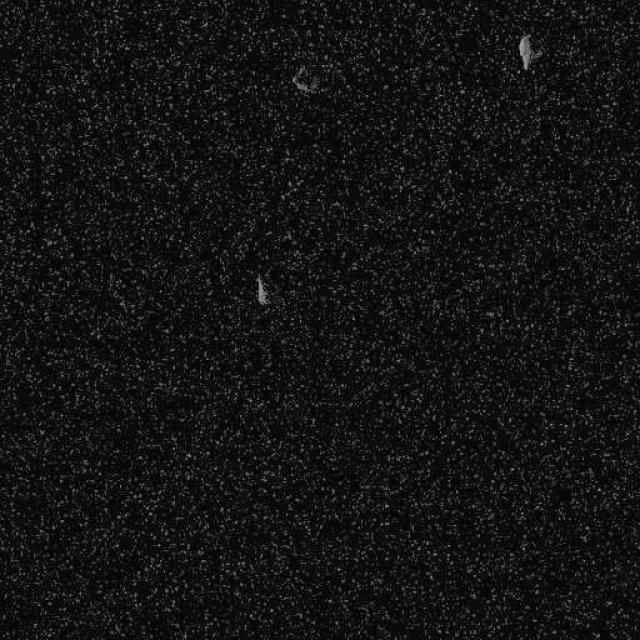D2: (290, 63, 330, 95), (516, 32, 545, 70), (255, 273, 270, 305)
